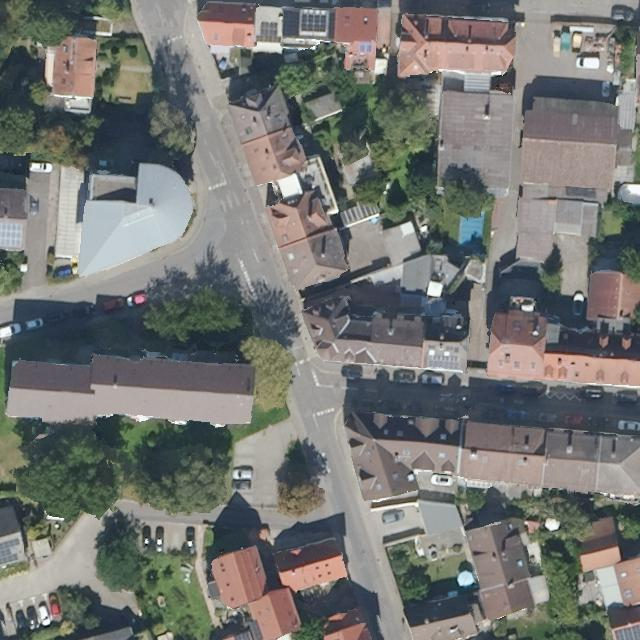PV: (252, 17, 283, 47), (1, 222, 24, 252), (300, 12, 328, 35)
